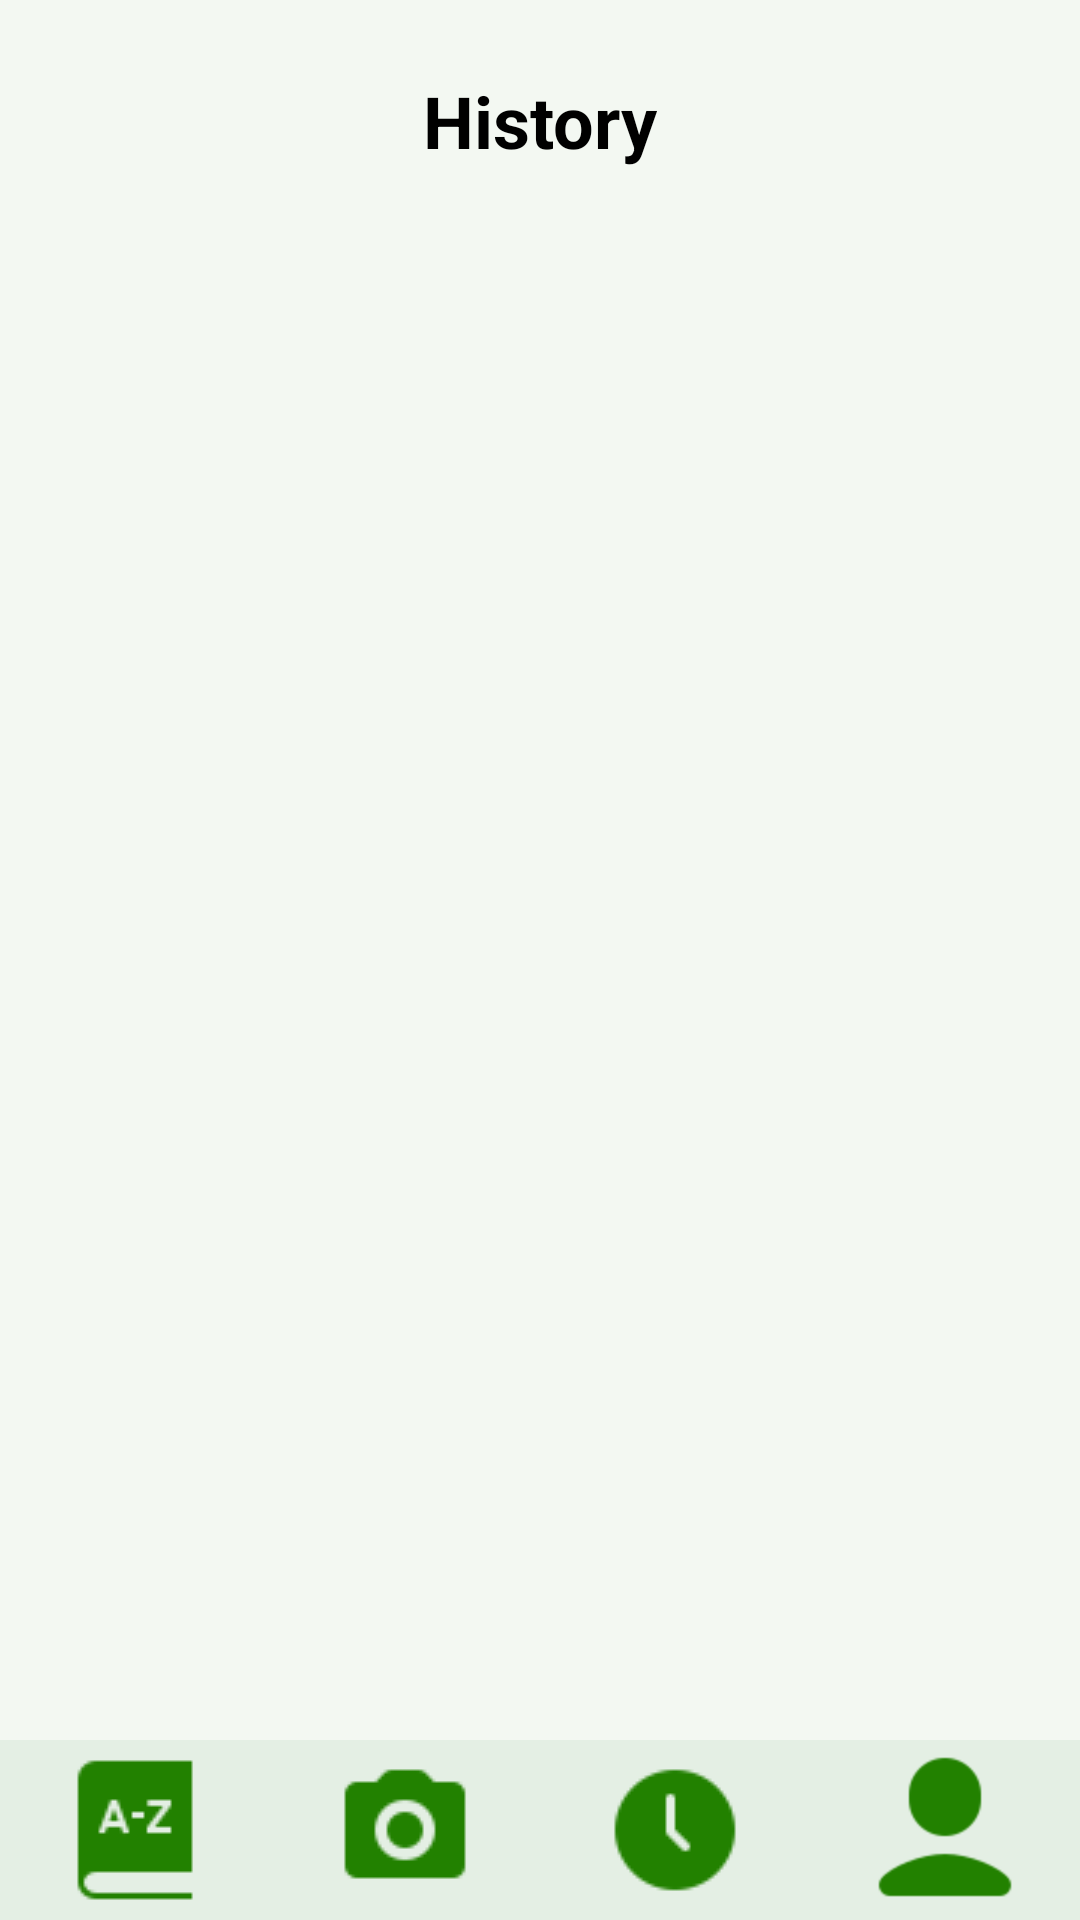

Where icons sit on this 1080px×1920px app screen, as (x1,y1,x2,y2):
Caméra: (344,1769,466,1879)
Compte: (878,1757,1012,1897)
Encyclopédie: (77,1760,193,1900)
Historique: (614,1769,736,1891)
